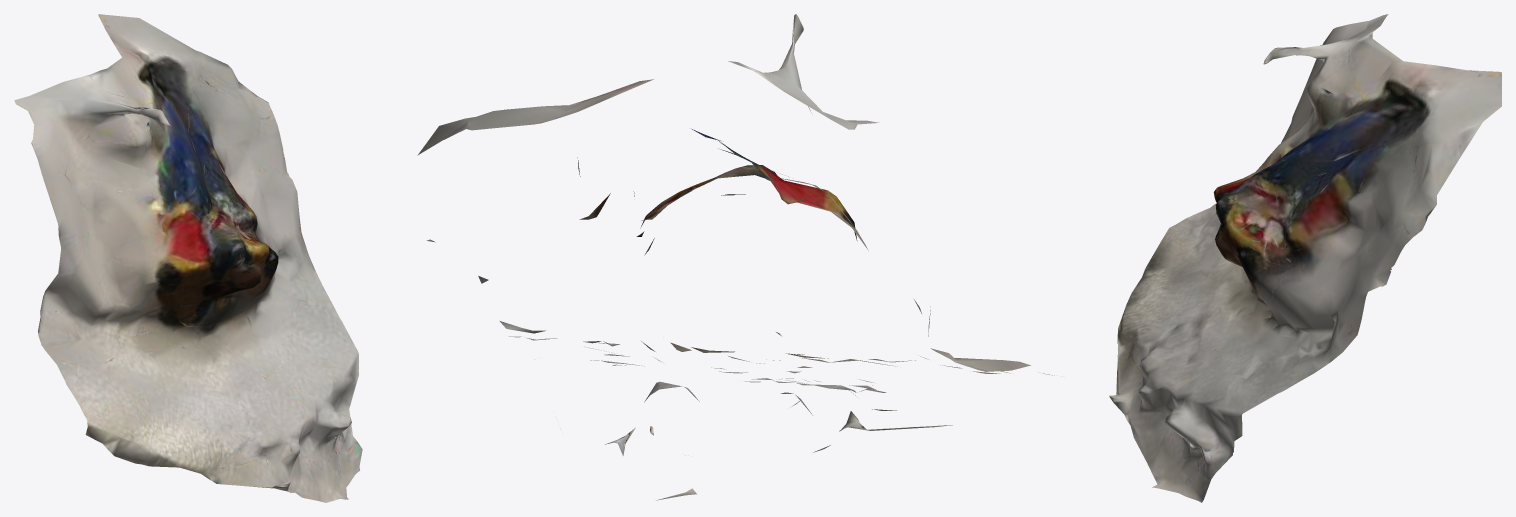
Rendered from hall.glb.
The picture shows the model from 3 angles, left to right: view 1: azimuth 30°, elevation 25°; view 2: azimuth 150°, elevation 25°; view 3: azimuth 270°, elevation 25°; orthographic projection. The views are drawn at different scales.
Bounding box in the file's own units: 0.6799 × 0.8095 × 0.7479.
1 material, 1 textured.
